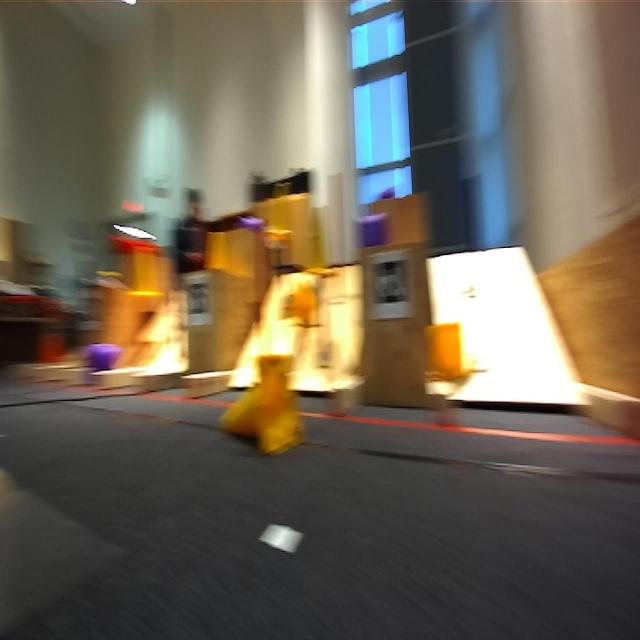frc_cone: (221, 350, 302, 454), (299, 202, 337, 284), (426, 318, 469, 386), (265, 172, 295, 245), (132, 249, 164, 301), (294, 280, 324, 327), (202, 231, 232, 275)
frc_cube: (360, 209, 389, 253), (85, 339, 117, 374), (241, 217, 267, 234), (378, 185, 398, 202)
